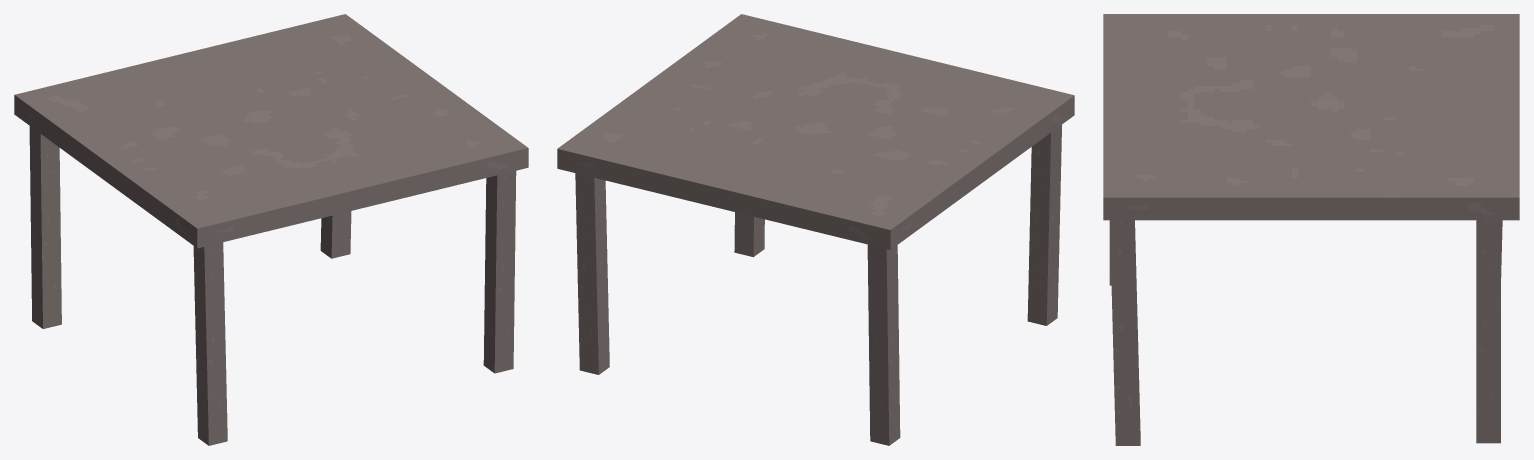
File: table.glb
3 views of the same model, side by side, from view 1: azimuth 30°, elevation 25°; view 2: azimuth 150°, elevation 25°; view 3: azimuth 270°, elevation 25° (orthographic). The views are drawn at different scales.
Visible parts, largest first — view 1: Mesh_0.035; view 2: Mesh_0.035; view 3: Mesh_0.035.
Part boxes in pixels (left/top/right/bottom): Mesh_0.035: left=14, top=14, right=528, bottom=445; Mesh_0.035: left=557, top=14, right=1074, bottom=445; Mesh_0.035: left=1103, top=14, right=1519, bottom=445.
Bounding box in the file's own units: 17.5 × 11.25 × 16.75.
Materials: 1 (1 with a texture image).
